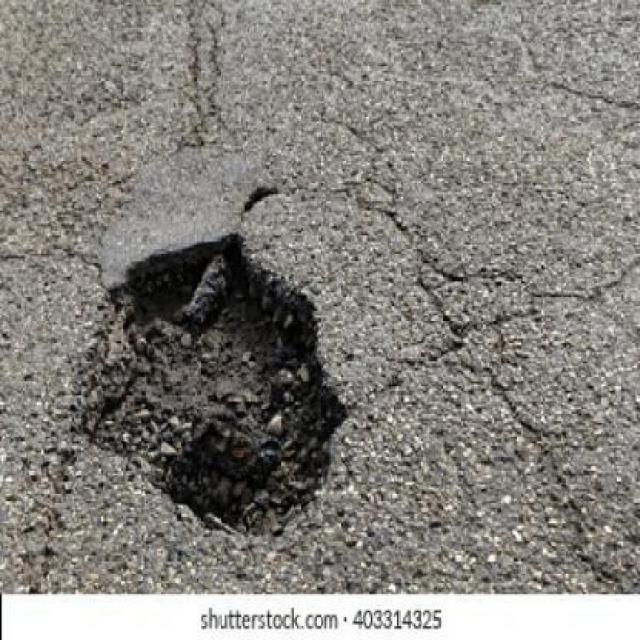Pothole: (67, 233, 353, 547)
